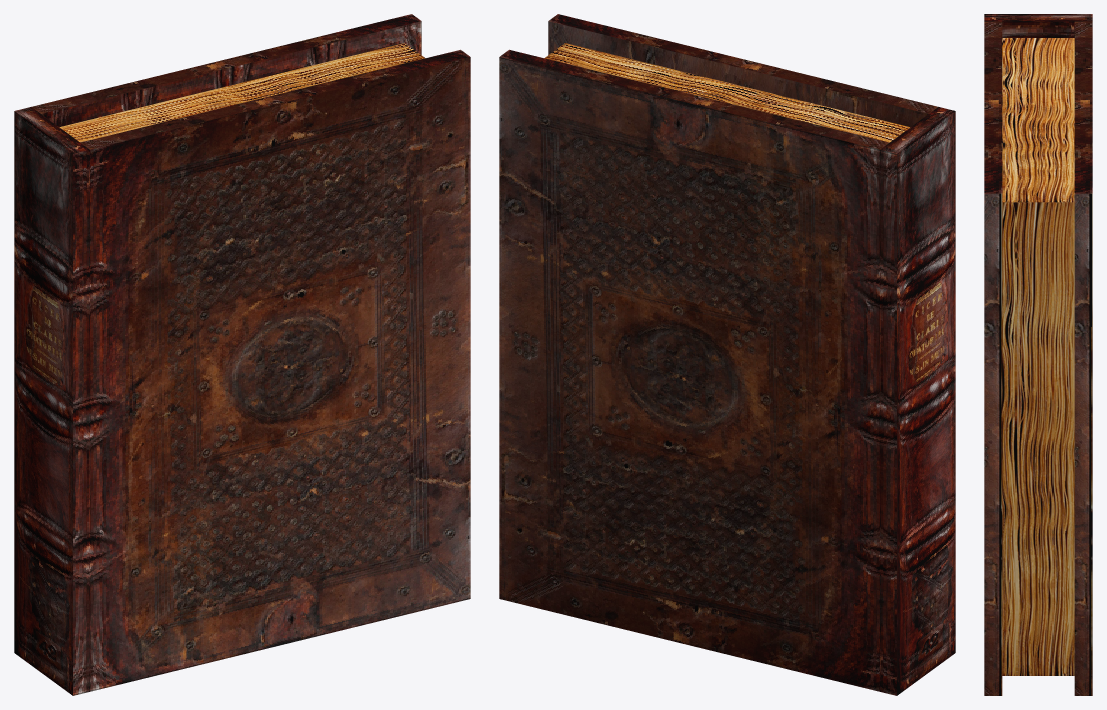
Rendered from libro_guerra_civil.glb.
The picture shows the model from 3 angles, left to right: view 1: azimuth 30°, elevation 25°; view 2: azimuth 150°, elevation 25°; view 3: azimuth 270°, elevation 25°; orthographic projection. The views are drawn at different scales.
Visible parts, largest first — view 1: Object_11; view 2: Object_11; view 3: Object_11.
Boxes of the visible parts, x1,y1,x2,y2 form: Object_11: (14, 14, 470, 695); Object_11: (499, 14, 955, 695); Object_11: (984, 14, 1092, 695).
Size of the model in its own units: 3.33 by 4.34 by 0.8502.
3 materials, 3 textured.
